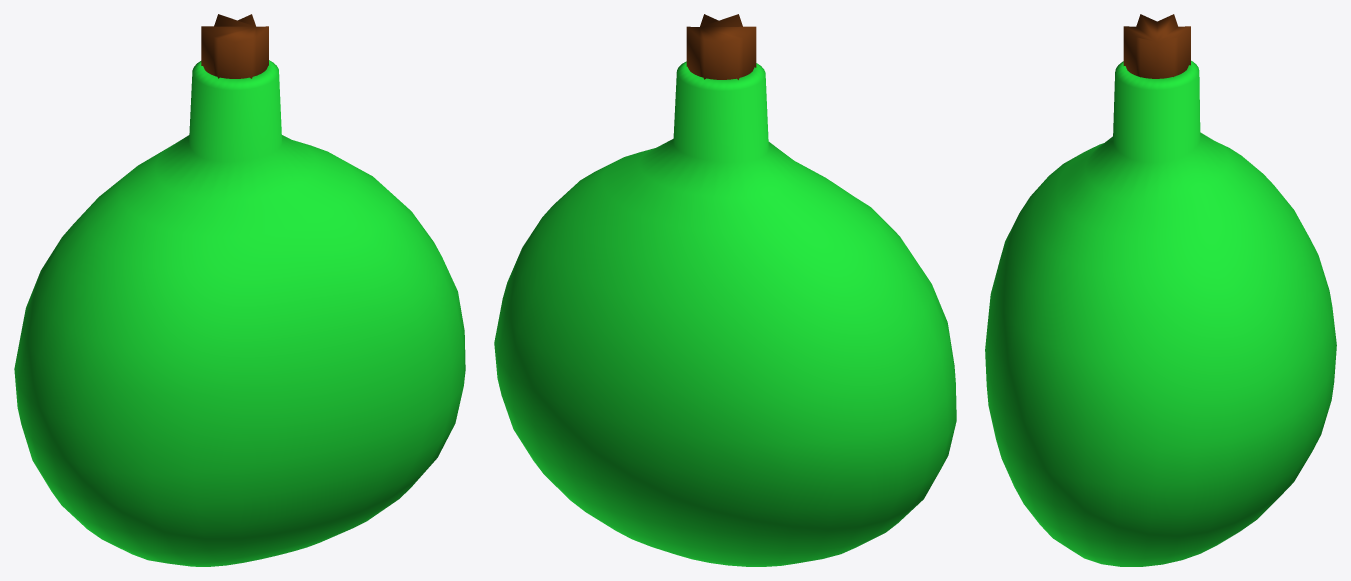
The model's file is 05-potion.fbx.
3 views of the same model, side by side, from view 1: azimuth 30°, elevation 25°; view 2: azimuth 150°, elevation 25°; view 3: azimuth 270°, elevation 25° (orthographic). The views are drawn at different scales.
Parts seen in each view (by area): view 1: Sphere.001, Cylinder.004; view 2: Sphere.001, Cylinder.004; view 3: Sphere.001, Cylinder.004.
Boxes of the visible parts, x1,y1,x2,y2 form: Sphere.001: (14,60,465,566); Cylinder.004: (201,14,268,78); Sphere.001: (494,61,956,566); Cylinder.004: (686,14,756,79); Sphere.001: (985,60,1336,566); Cylinder.004: (1123,14,1190,78).
Size of the model in its own units: 80.71 by 97.46 by 60.72.
